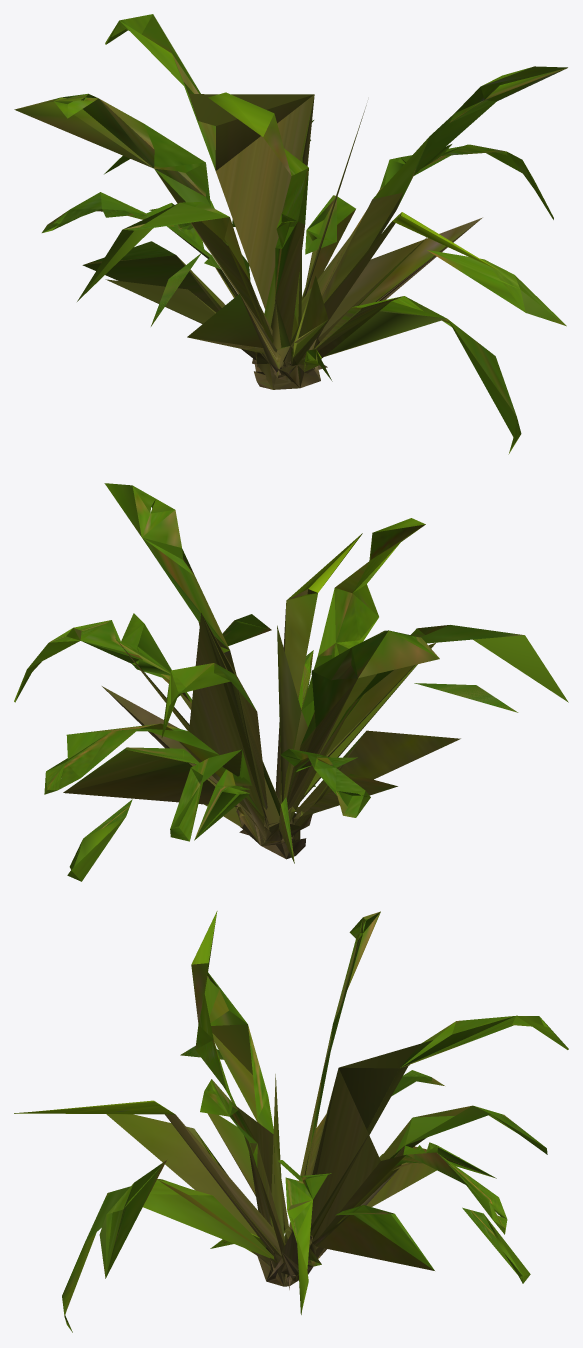
The model's file is VEG_HelechoTropical_02_LOD2.fbx.
3 renders of one model, top to bottom at view 1: azimuth 30°, elevation 25°; view 2: azimuth 150°, elevation 25°; view 3: azimuth 270°, elevation 25°, orthographic. The views are drawn at different scales.
Parts seen in each view (by area): view 1: VEG_HelechoTropical_02_Mesh000; view 2: VEG_HelechoTropical_02_Mesh000; view 3: VEG_HelechoTropical_02_Mesh000.
Boxes of the visible parts, x1=… form: VEG_HelechoTropical_02_Mesh000: x1=14, y1=14, x2=567, y2=454; VEG_HelechoTropical_02_Mesh000: x1=14, y1=483, x2=568, y2=881; VEG_HelechoTropical_02_Mesh000: x1=14, y1=911, x2=568, y2=1332.
Bounding box in the file's own units: 1.88 × 1.2 × 1.85.
